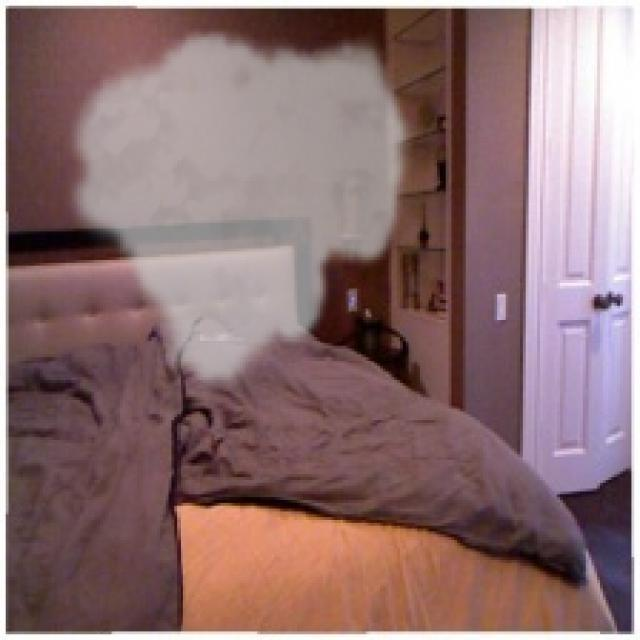Smoke: (59, 26, 414, 397)
